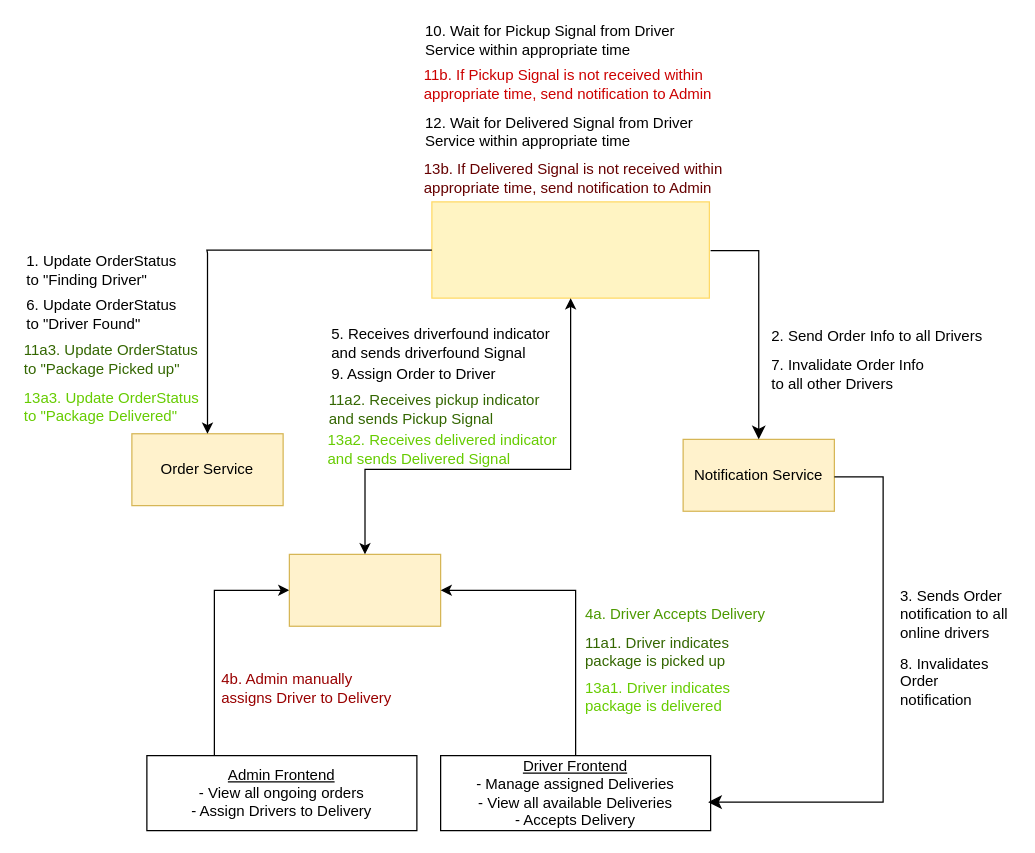
Image size: 1035x853. Some labels were removed from this diagram. The shapes that lost their labels are listed below. From the top down, each one's centre as x and y in pixels, then its label:
At point (570, 249): "Delivery Workflow (Temporal)".
At point (364, 589): "Driver Service".
